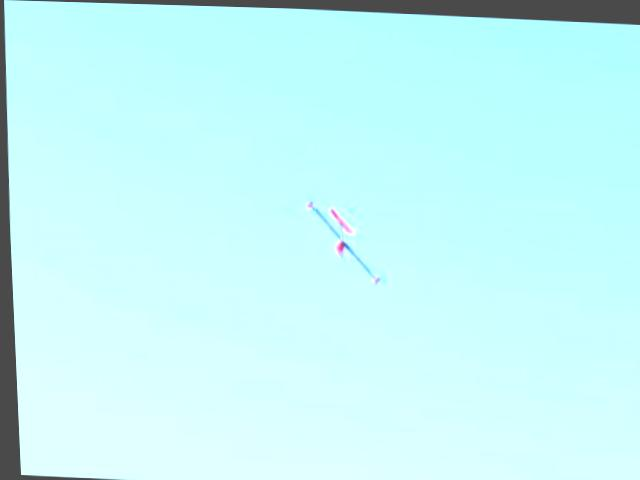uav: (293, 189, 390, 288)
